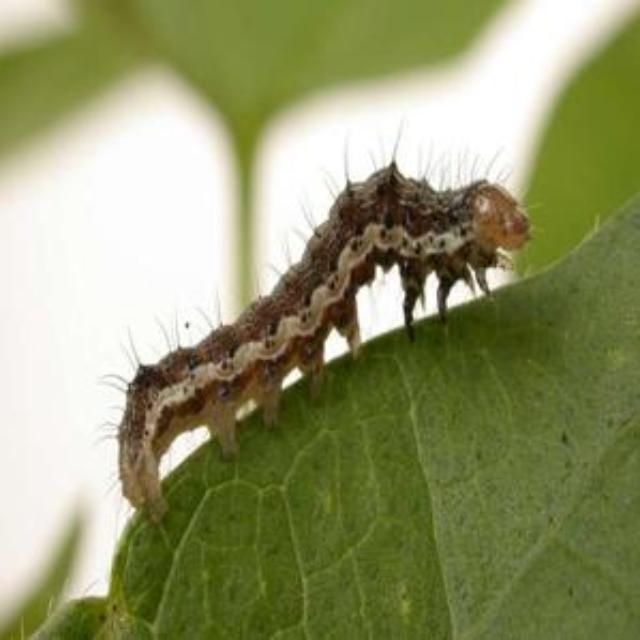Cotton bollworm: (64, 110, 570, 542)
